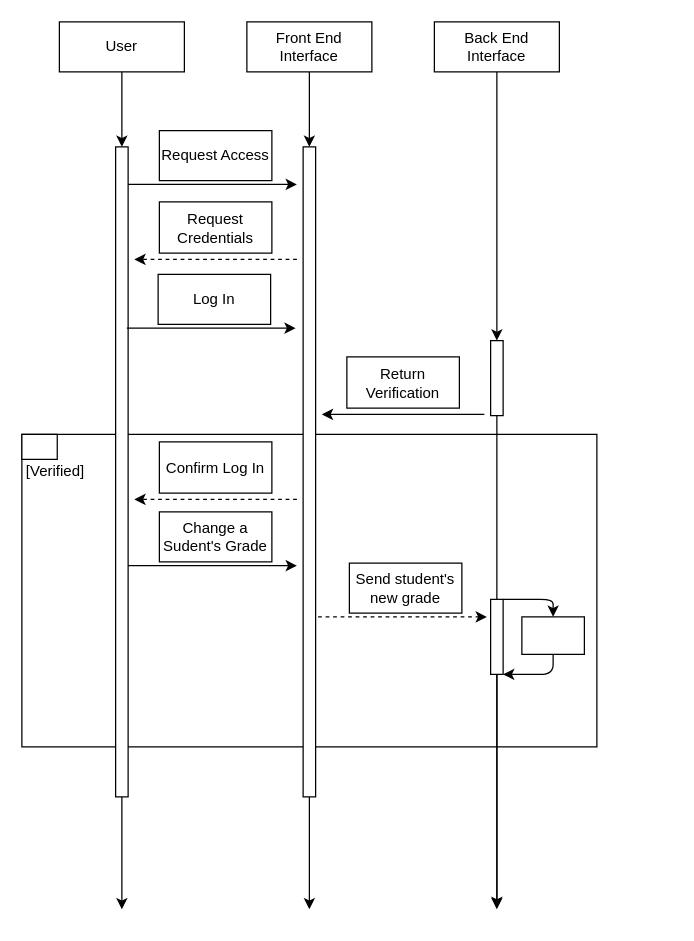
Image size: 694x941. Some labels were removed from this diagram. Each missing label, with the centre of its shape:
Change Grade: the point at 552,635
opt: the point at 39,446
